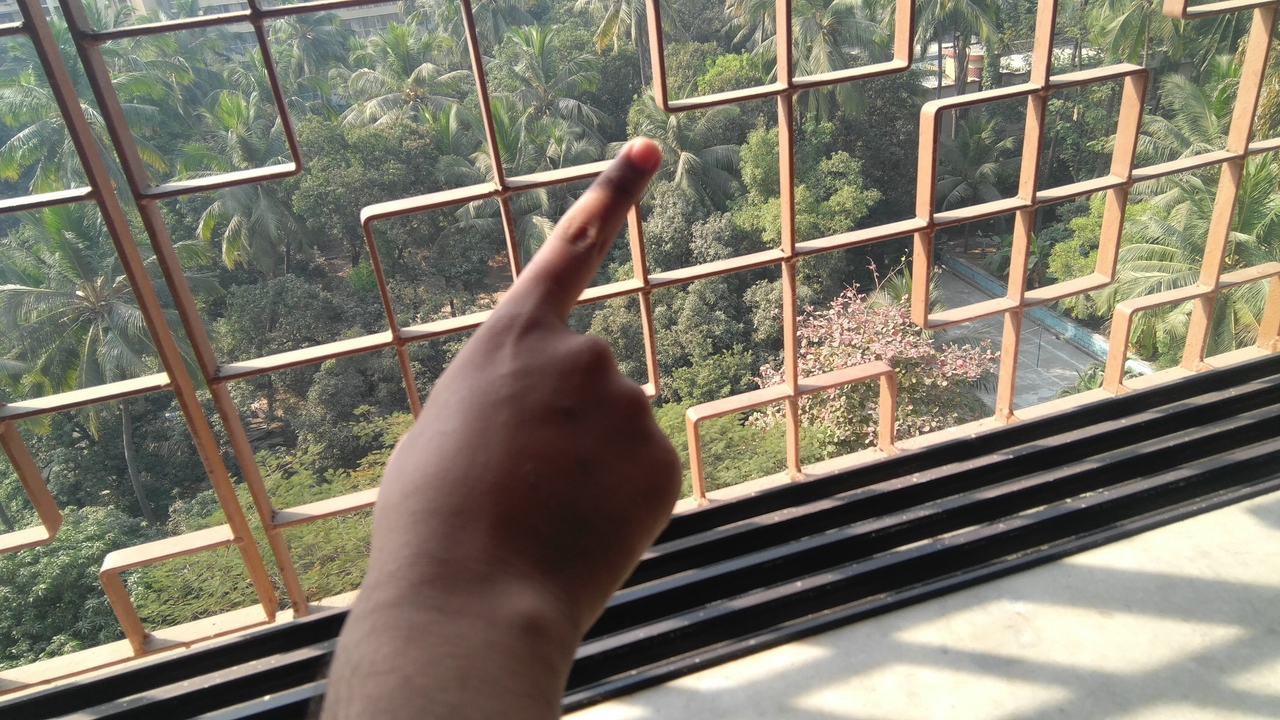fingertip: (608, 126, 666, 182)
